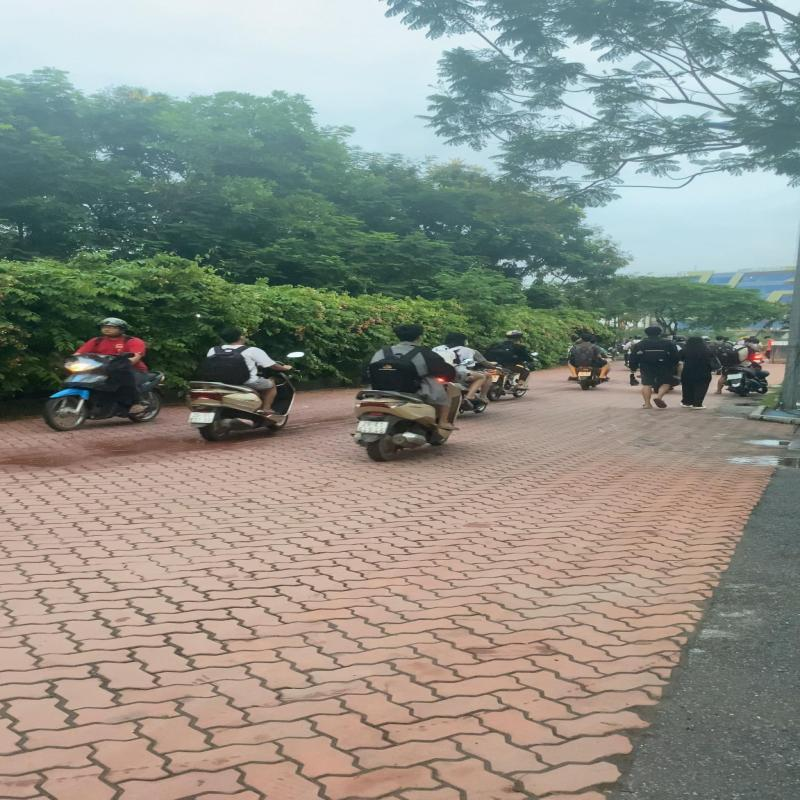licenseplate: (358, 421, 388, 434), (188, 412, 215, 423)
motorcyclist: (348, 323, 478, 462), (181, 328, 308, 442)
nohelmet: (394, 324, 424, 342), (217, 329, 246, 344)
